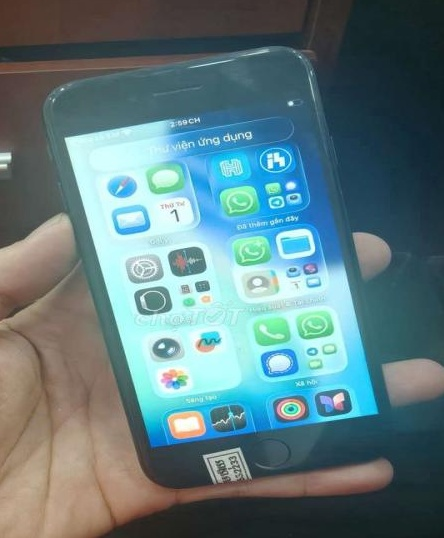scratch: (117, 59, 199, 77), (48, 82, 70, 116)
